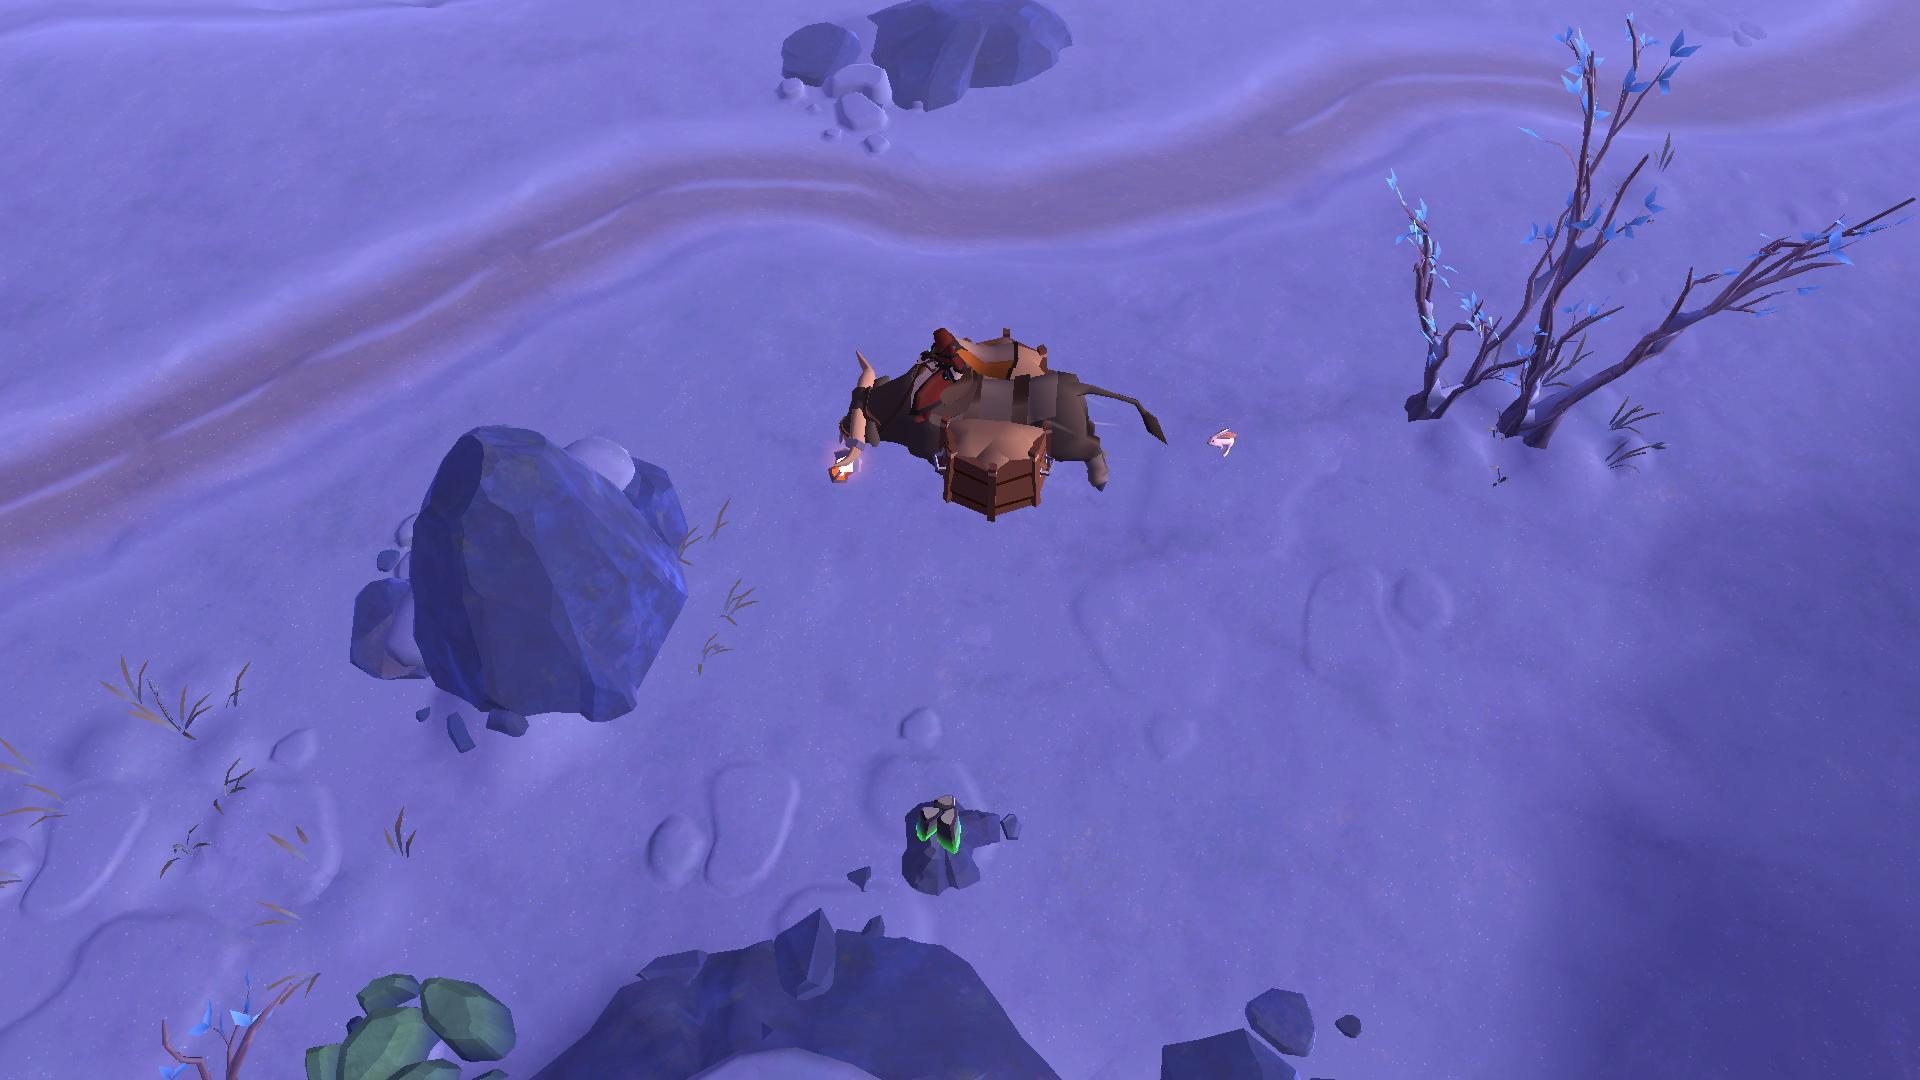ore_t3: (891, 782, 982, 878)
rock_t3: (313, 952, 517, 1080)
